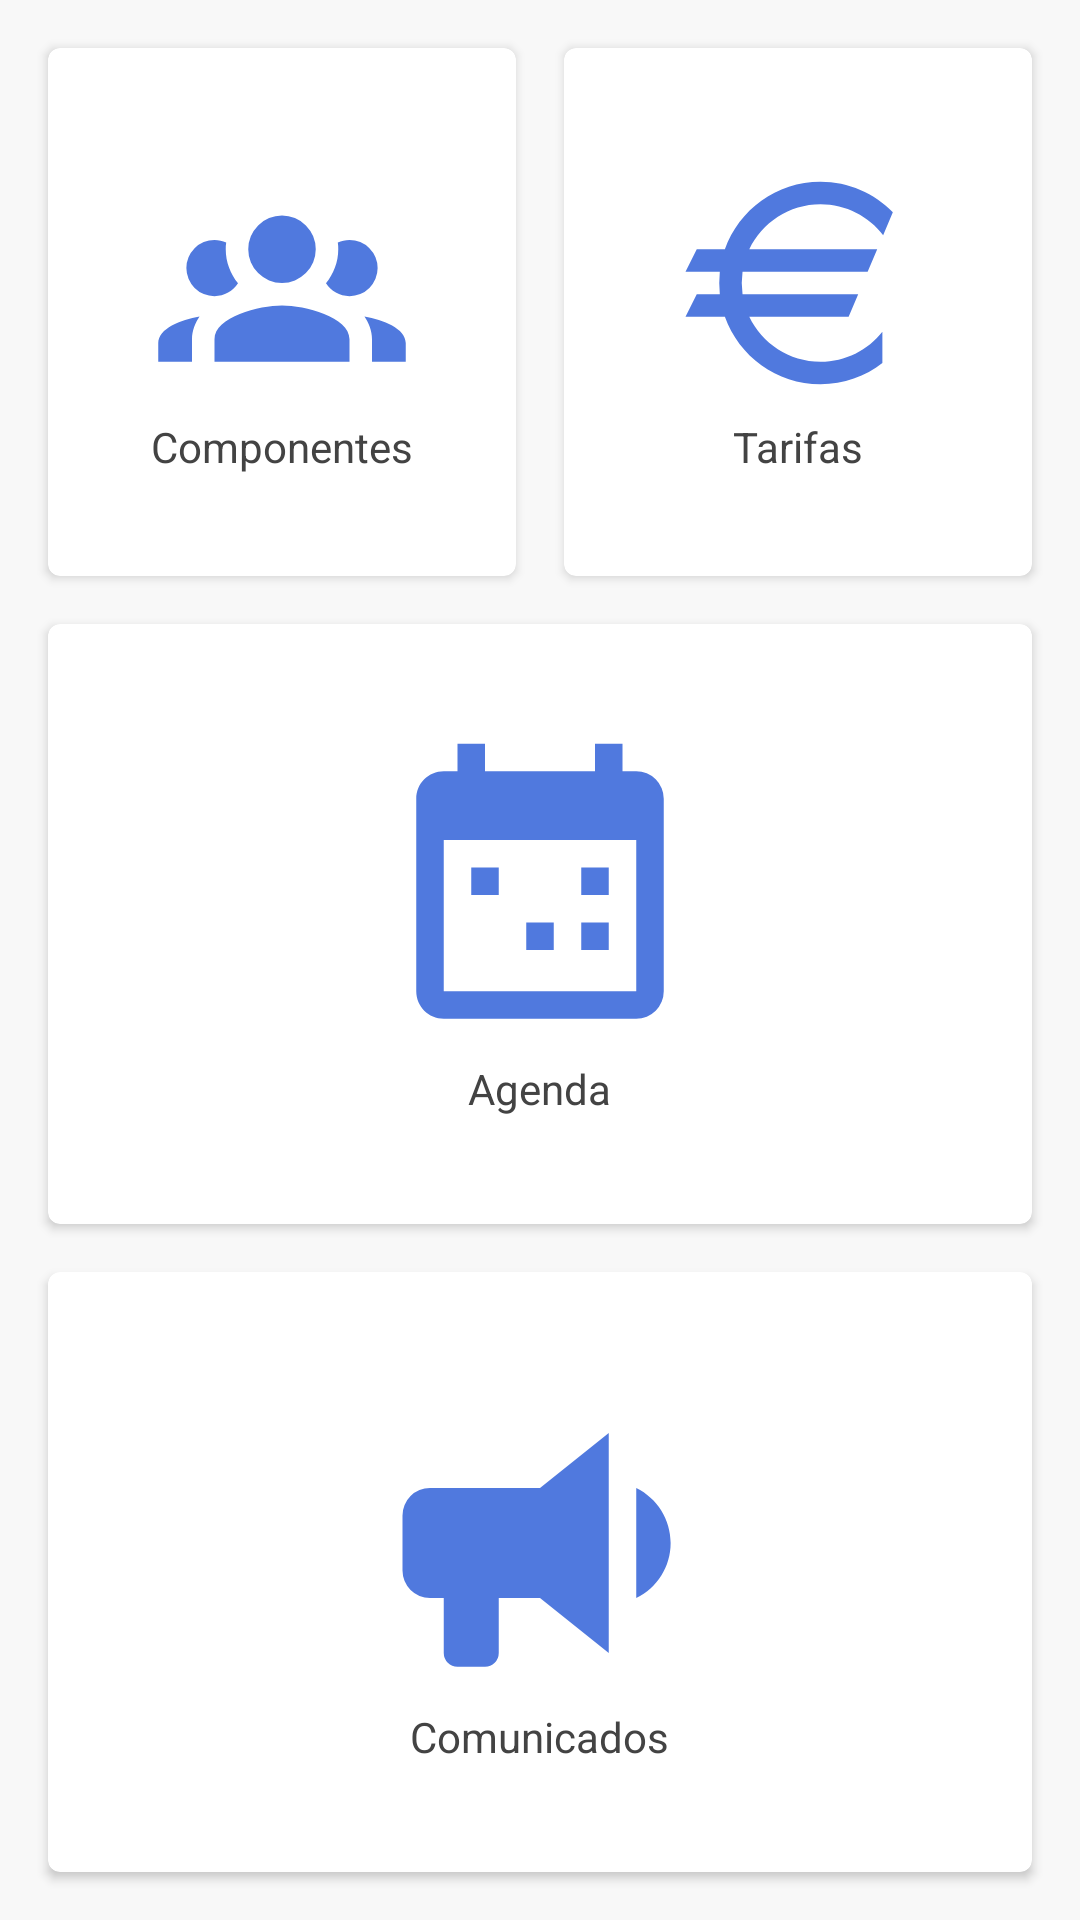

Where to tap for icons on this 1080*1920 app screen, as point (x, y):
account group: point (282, 288)
bullhorn: point (536, 1550)
calendar multiselect: point (540, 881)
currency eur: point (789, 283)
